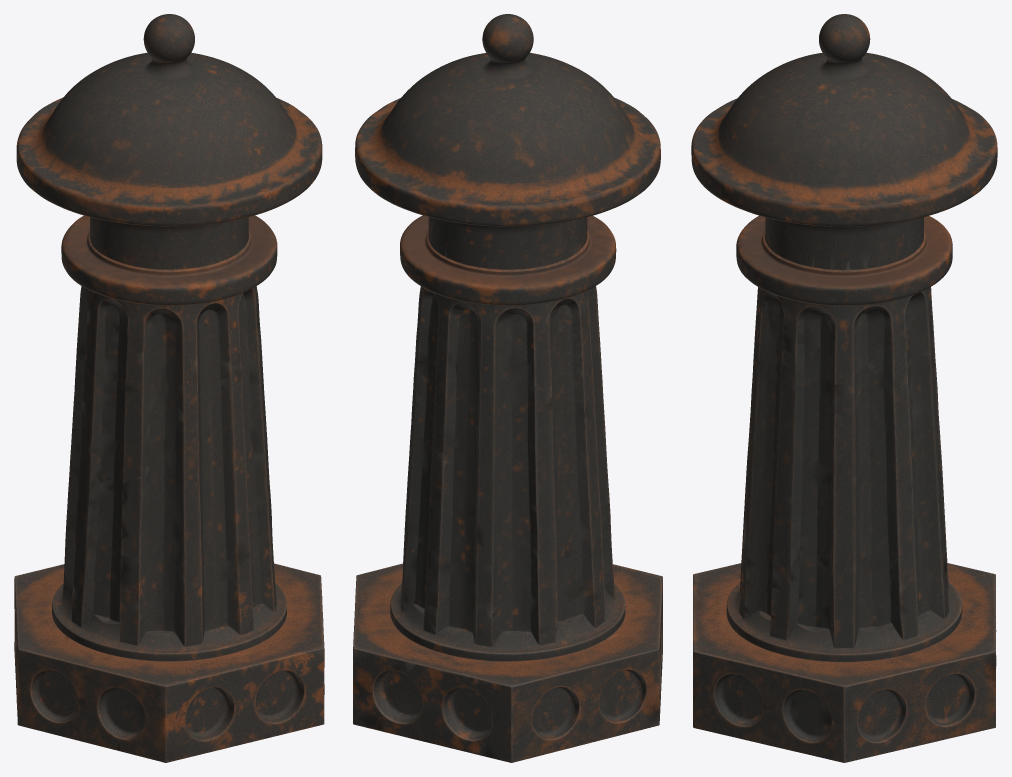
Rendered from bitta_ormeggio.glb.
3 views of the same model, side by side, from view 1: azimuth 30°, elevation 25°; view 2: azimuth 150°, elevation 25°; view 3: azimuth 270°, elevation 25° (orthographic).
Visible parts, largest first — view 1: Mesh_0.001; view 2: Mesh_0.001; view 3: Mesh_0.001.
Boxes of the visible parts, x1=… form: Mesh_0.001: x1=14, y1=14, x2=324, y2=762; Mesh_0.001: x1=353, y1=14, x2=662, y2=762; Mesh_0.001: x1=691, y1=14, x2=997, y2=762.
Size of the model in its own units: 0.4717 by 1 by 0.4123.
Materials: 1 (1 with a texture image).
